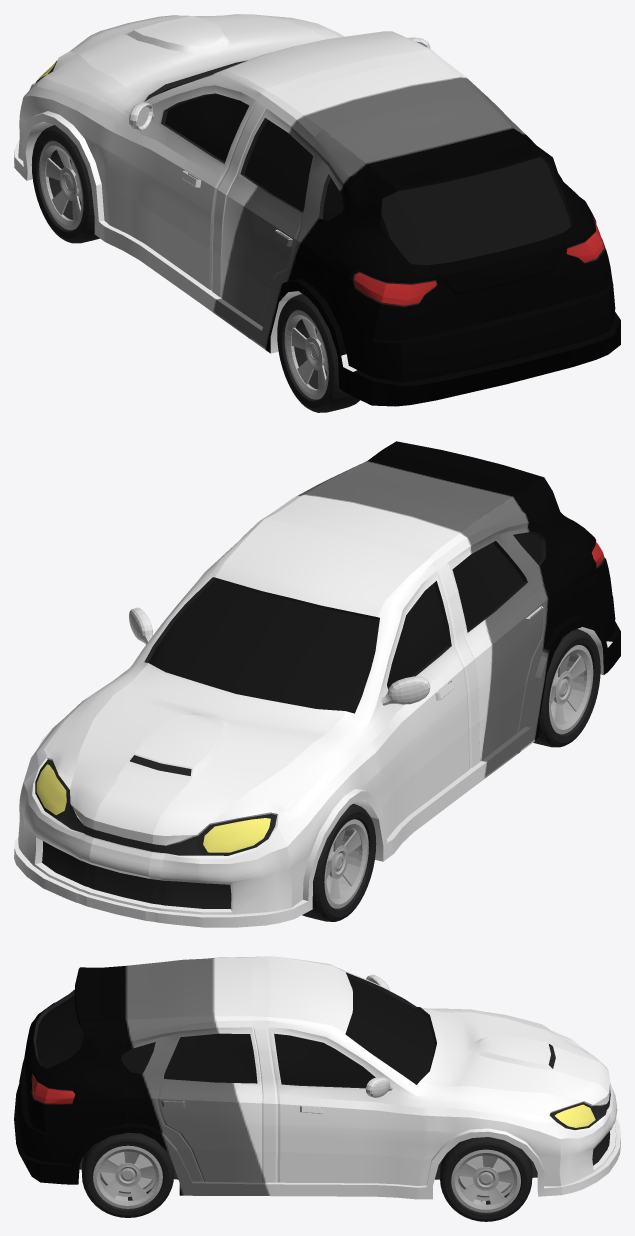
The model's file is Sunaru_Arteza.glb.
3 views of the same model, one above another, from view 1: azimuth 30°, elevation 25°; view 2: azimuth 150°, elevation 25°; view 3: azimuth 270°, elevation 25° (orthographic). The views are drawn at different scales.
Parts seen in each view (by area): view 1: Sunaru Arteza, Circle.045, Circle.017, Cube.009; view 2: Sunaru Arteza, Circle.017, Circle.045, Cube.009; view 3: Sunaru Arteza, Circle.018, Circle.016, Cube.015.
Part boxes in pixels (box(x1,y1,x2,y2)): Sunaru Arteza: box(14, 14, 620, 406); Circle.045: box(277, 294, 359, 412); Circle.017: box(31, 125, 99, 243); Cube.009: box(129, 102, 153, 130); Sunaru Arteza: box(14, 441, 620, 927); Circle.017: box(302, 803, 376, 921); Circle.045: box(533, 629, 600, 747); Cube.009: box(381, 676, 430, 705); Sunaru Arteza: box(14, 956, 620, 1199); Circle.018: box(440, 1137, 532, 1221); Circle.016: box(81, 1133, 174, 1217); Cube.015: box(365, 1076, 392, 1097).
Bounding box in the file's own units: 1.61 × 1.26 × 3.7.
4 materials, 3 textured.
